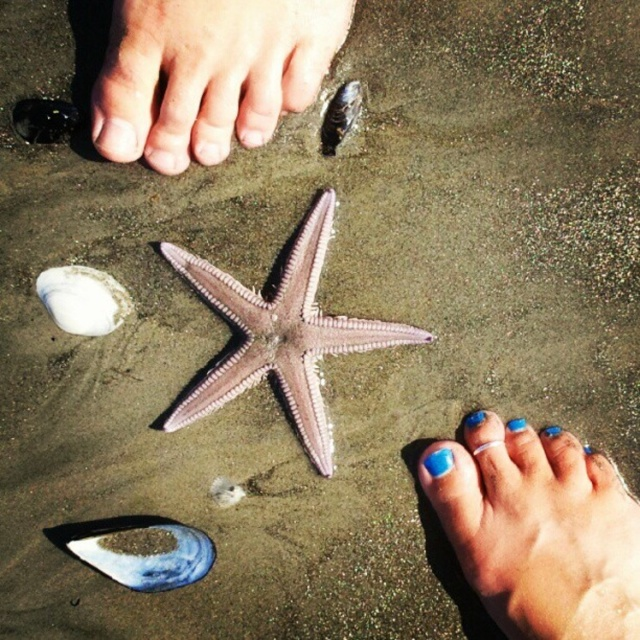Starfish: (148, 190, 438, 477)
